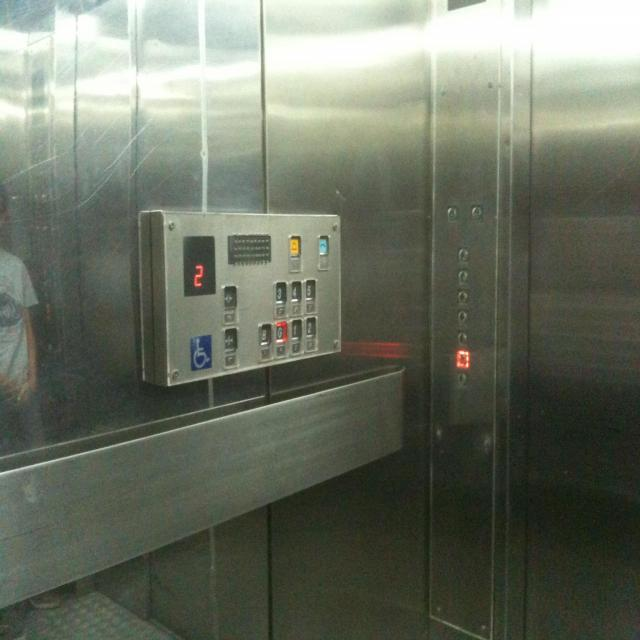1: (290, 316, 303, 339)
2: (304, 314, 317, 336)
3: (274, 280, 288, 304)
4: (290, 278, 302, 302)
5: (304, 278, 316, 299)
B: (259, 321, 272, 346)
CH: (190, 334, 212, 371)
G: (274, 318, 288, 344)
alarm: (289, 234, 302, 258)
blur: (456, 245, 471, 265), (456, 286, 470, 306), (456, 328, 470, 348), (456, 349, 470, 369), (456, 266, 470, 285), (456, 308, 470, 327), (454, 370, 468, 389), (470, 204, 483, 222), (446, 204, 458, 222)
call: (318, 233, 330, 255)
close: (223, 325, 239, 350)
led: (182, 235, 216, 297)
open: (222, 284, 238, 309)
